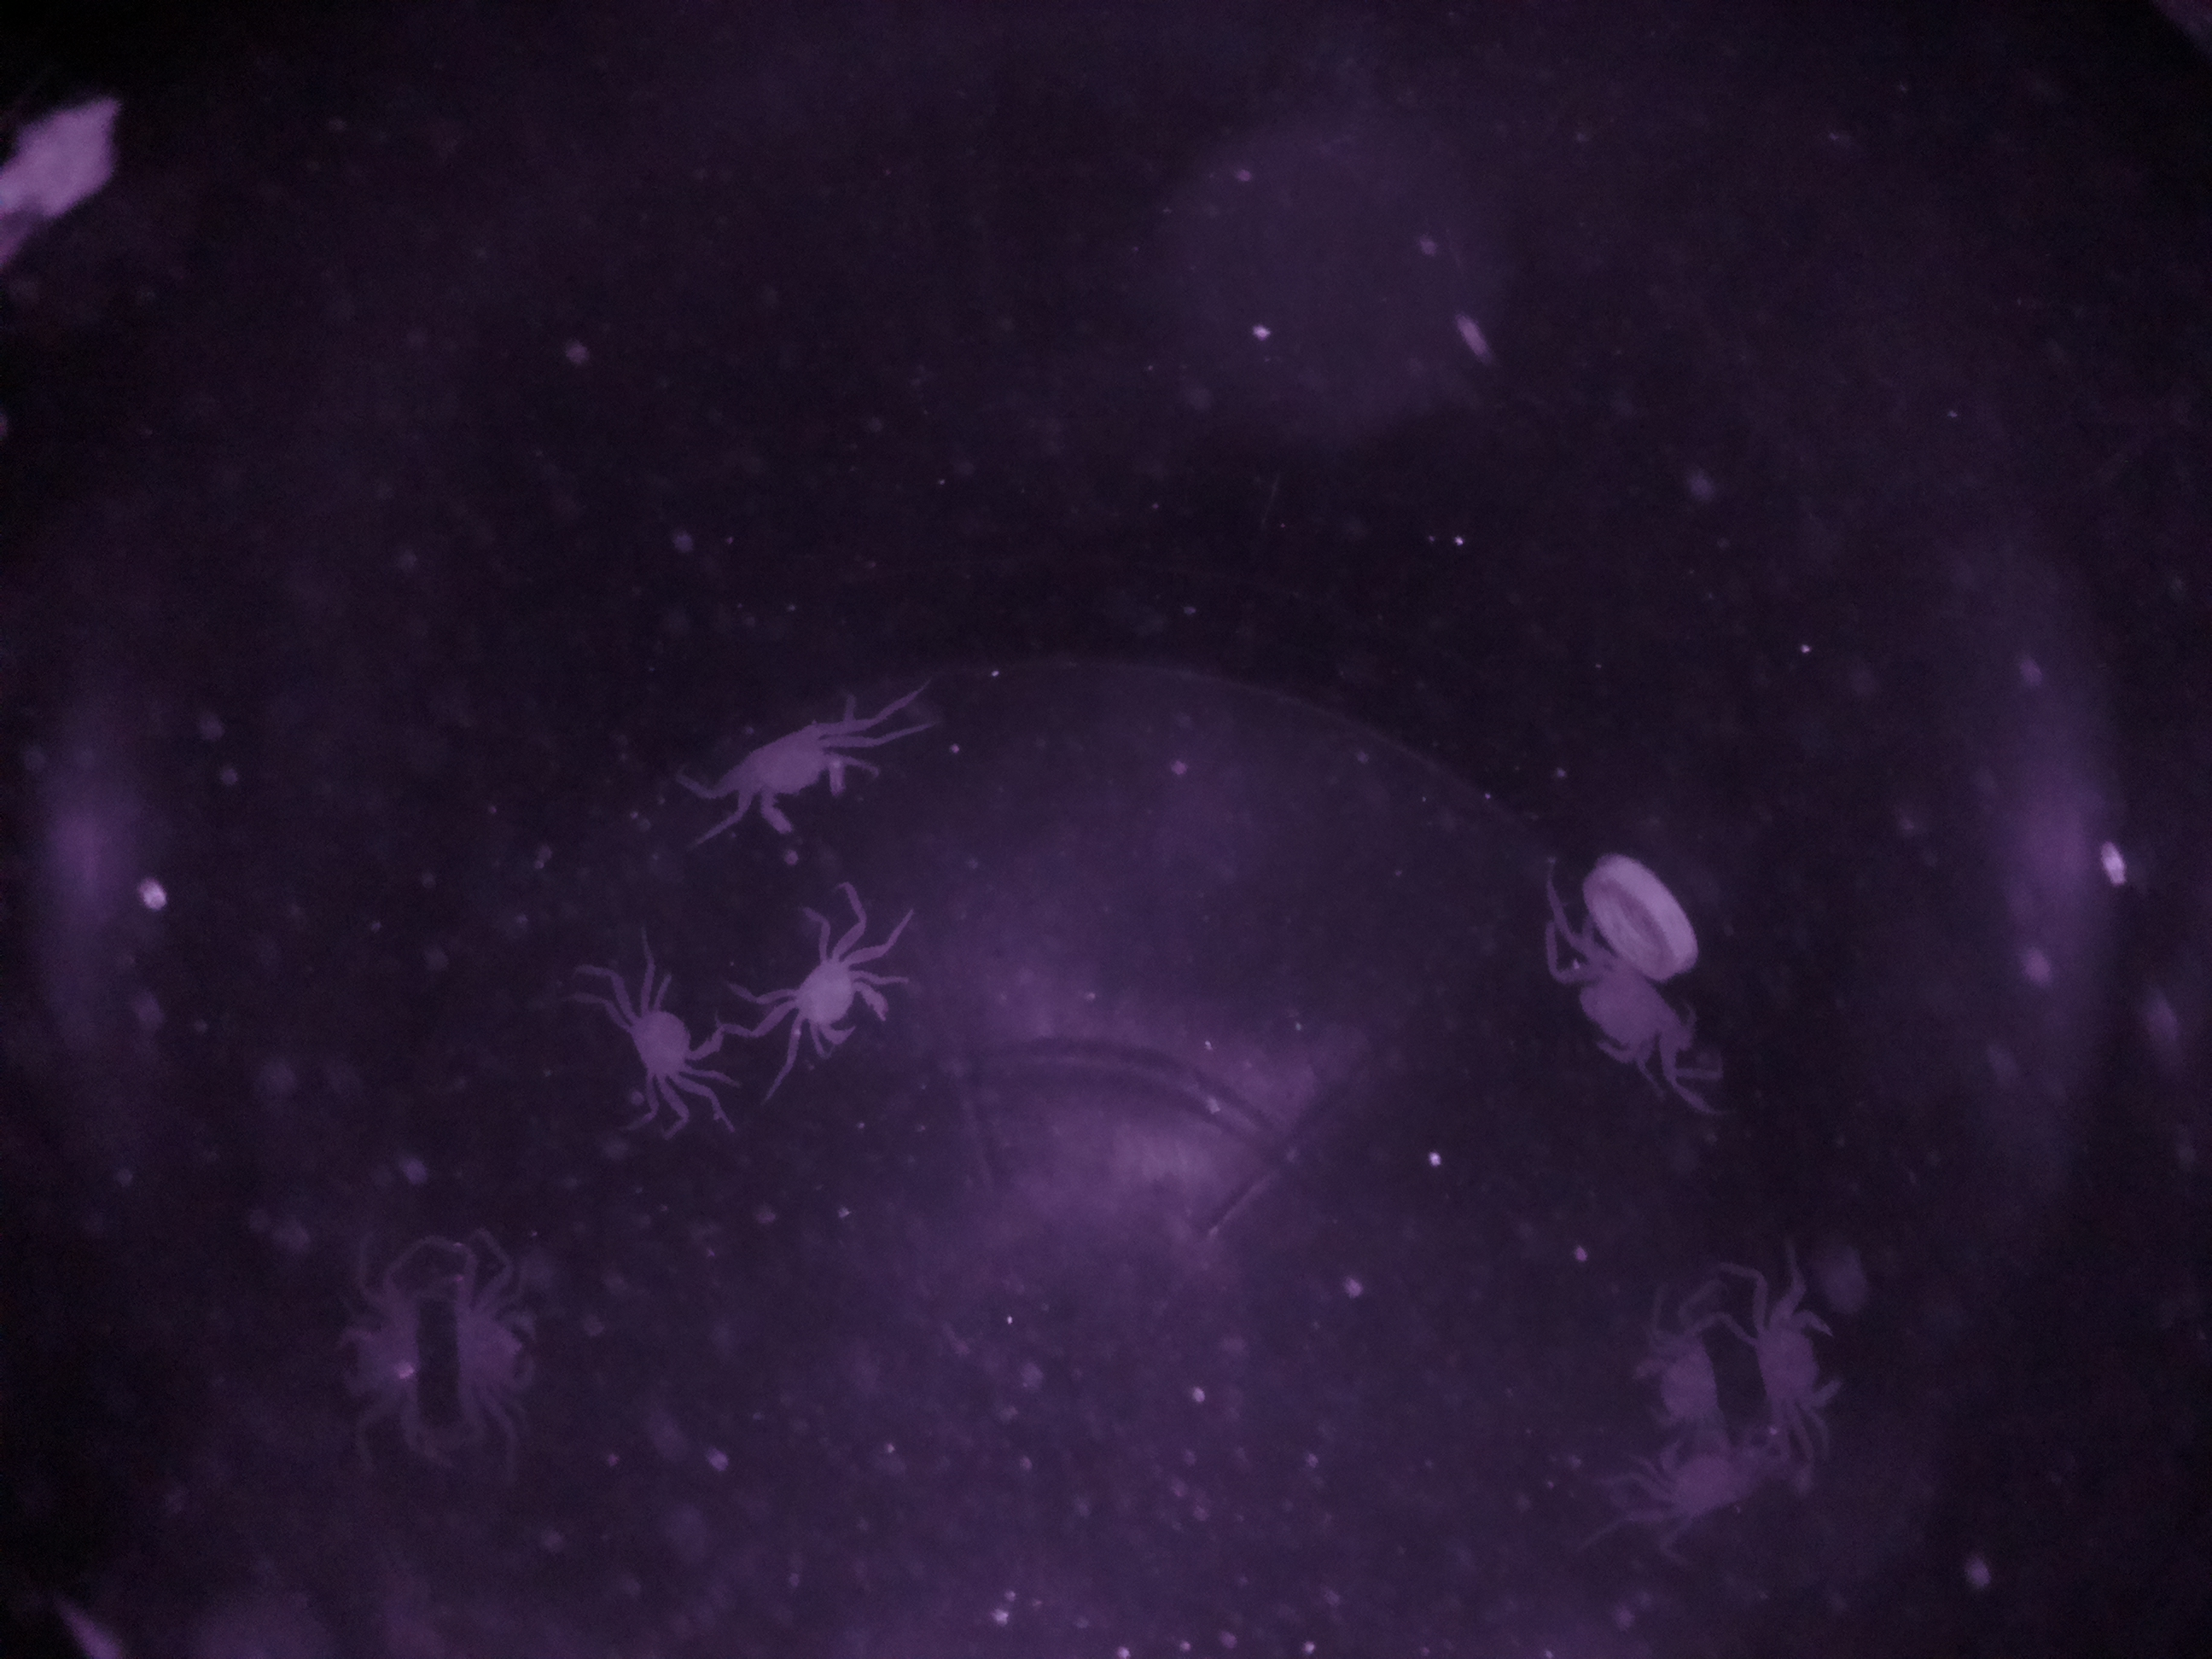Crab: (434, 1263, 570, 1453), (1552, 932, 1707, 1094), (726, 695, 864, 863), (611, 945, 740, 1115), (1738, 1274, 1860, 1453), (765, 931, 906, 1075)
